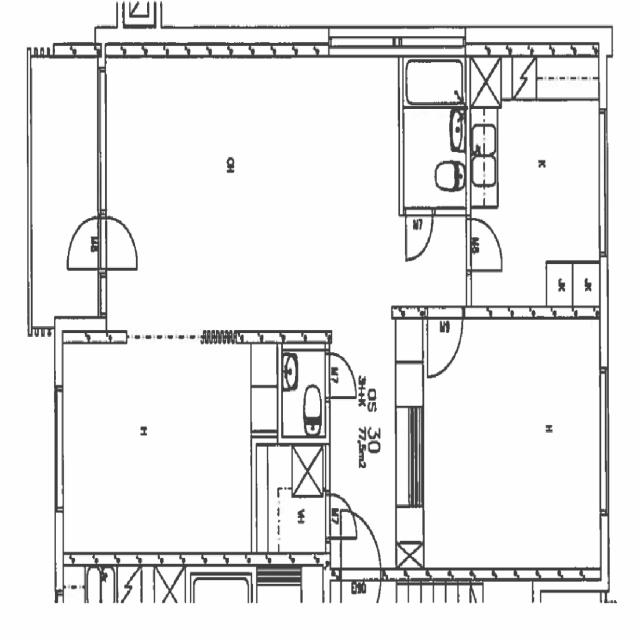door: (282, 346, 350, 431), (102, 209, 143, 272), (426, 314, 464, 379), (467, 214, 505, 274), (64, 212, 102, 270), (404, 206, 436, 264), (327, 352, 359, 401)
zone: (99, 54, 392, 333), (52, 339, 282, 560), (422, 309, 604, 576), (472, 84, 604, 291), (328, 315, 424, 567), (29, 46, 101, 322), (402, 93, 468, 211), (282, 341, 330, 441), (404, 59, 464, 107), (547, 262, 589, 314), (572, 261, 600, 314), (117, 0, 160, 28)
